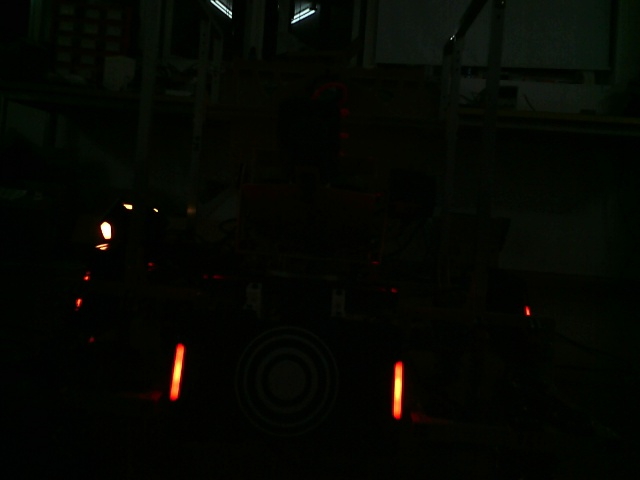lamp: (169, 342, 187, 399), (393, 360, 404, 418)
